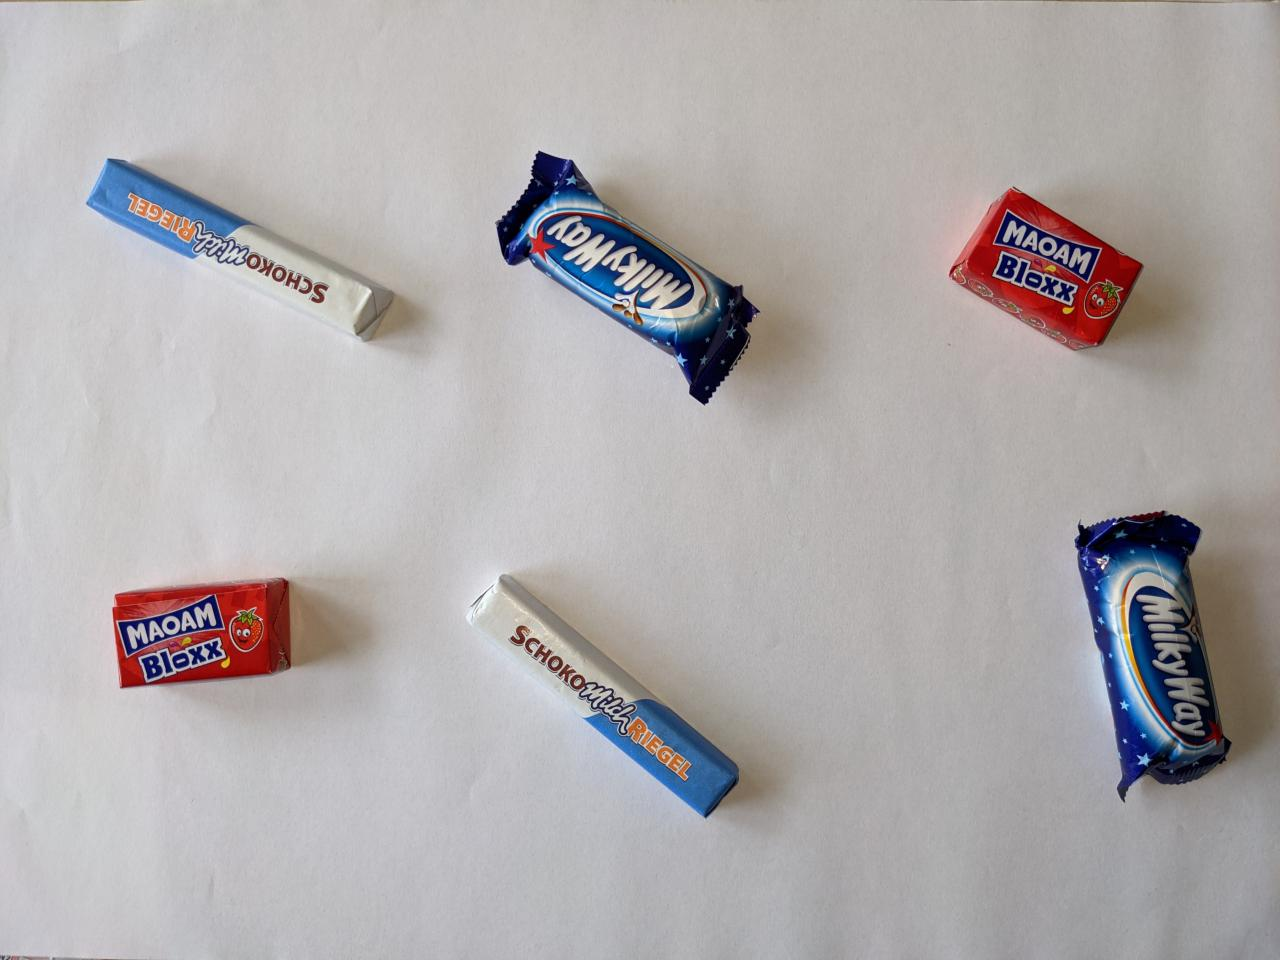MAOAM: (940, 178, 1152, 360), (102, 572, 298, 699)
MilkyWay: (490, 146, 769, 417), (1065, 504, 1241, 813)
Schokoriegel: (457, 566, 753, 832), (79, 149, 400, 352)
